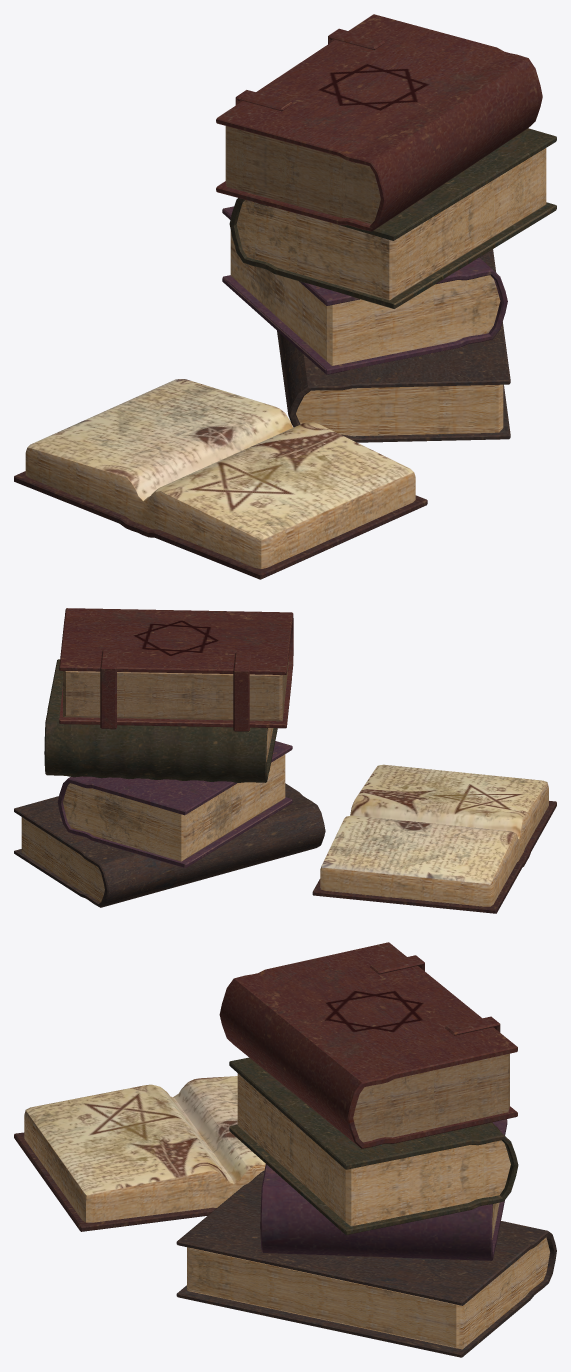
File: 3DArt_Props_StackOfBooks_Model_Amanda_2.fbx
3 renders of one model, top to bottom at view 1: azimuth 30°, elevation 25°; view 2: azimuth 150°, elevation 25°; view 3: azimuth 270°, elevation 25°, orthographic. The views are drawn at different scales.
Parts seen in each view (by area): view 1: 3DArt_Props_StackOfBooks_Model_Amanda_V3; view 2: 3DArt_Props_StackOfBooks_Model_Amanda_V3; view 3: 3DArt_Props_StackOfBooks_Model_Amanda_V3.
Boxes of the visible parts, bbox=[...] form: 3DArt_Props_StackOfBooks_Model_Amanda_V3: bbox=[14, 14, 556, 579]; 3DArt_Props_StackOfBooks_Model_Amanda_V3: bbox=[14, 608, 556, 913]; 3DArt_Props_StackOfBooks_Model_Amanda_V3: bbox=[14, 942, 556, 1357].
Bounding box in the file's own units: 52.54 × 26.03 × 46.77.
